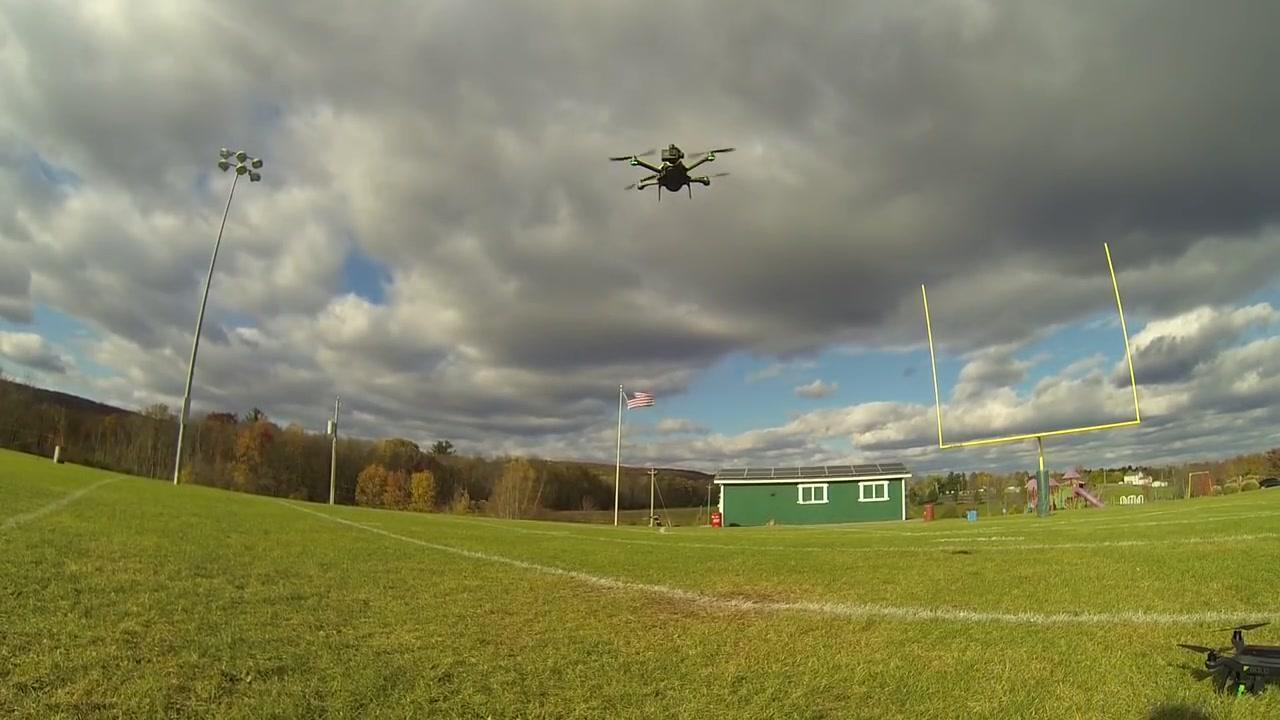UAV: (1176, 623, 1280, 696), (609, 145, 737, 203)
